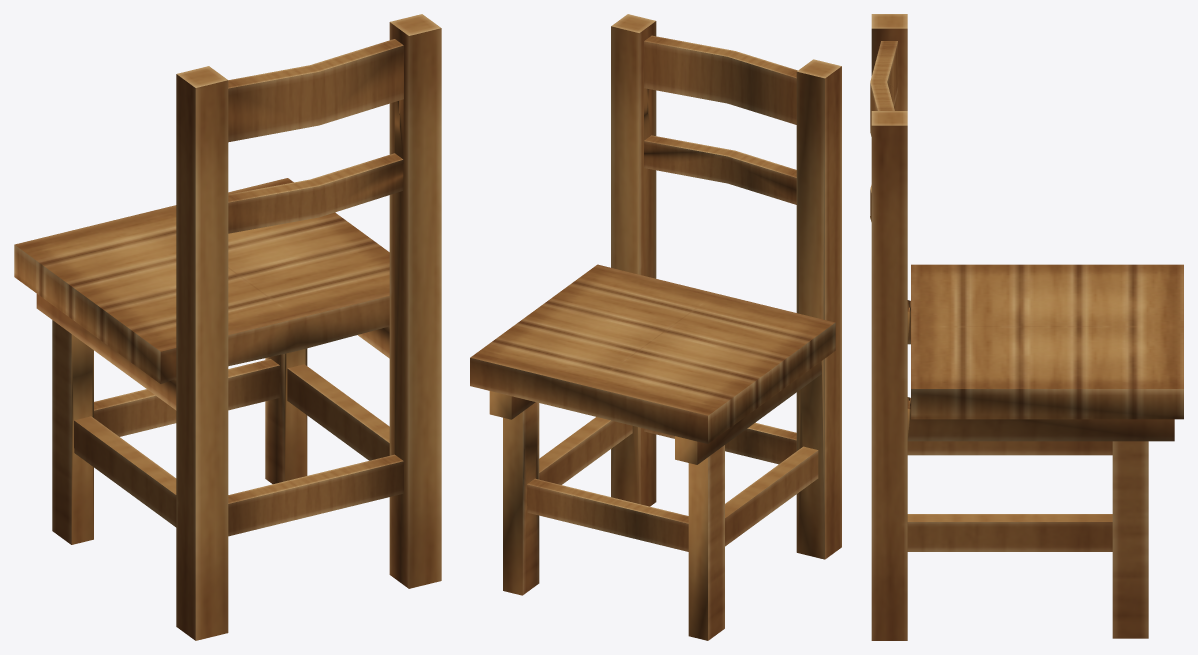
File: c_SWGchair04A.glb
3 views of the same model, side by side, from view 1: azimuth 30°, elevation 25°; view 2: azimuth 150°, elevation 25°; view 3: azimuth 270°, elevation 25° (orthographic). The views are drawn at different scales.
Parts seen in each view (by area): view 1: c_SWGchair04A; view 2: c_SWGchair04A; view 3: c_SWGchair04A.
Part boxes in pixels (left/top/right/bottom): c_SWGchair04A: left=14, top=14, right=441, bottom=640; c_SWGchair04A: left=470, top=14, right=841, bottom=640; c_SWGchair04A: left=870, top=14, right=1183, bottom=640.
Size of the model in its own units: 0.5103 by 0.9859 by 0.544.
1 material, 1 textured.
